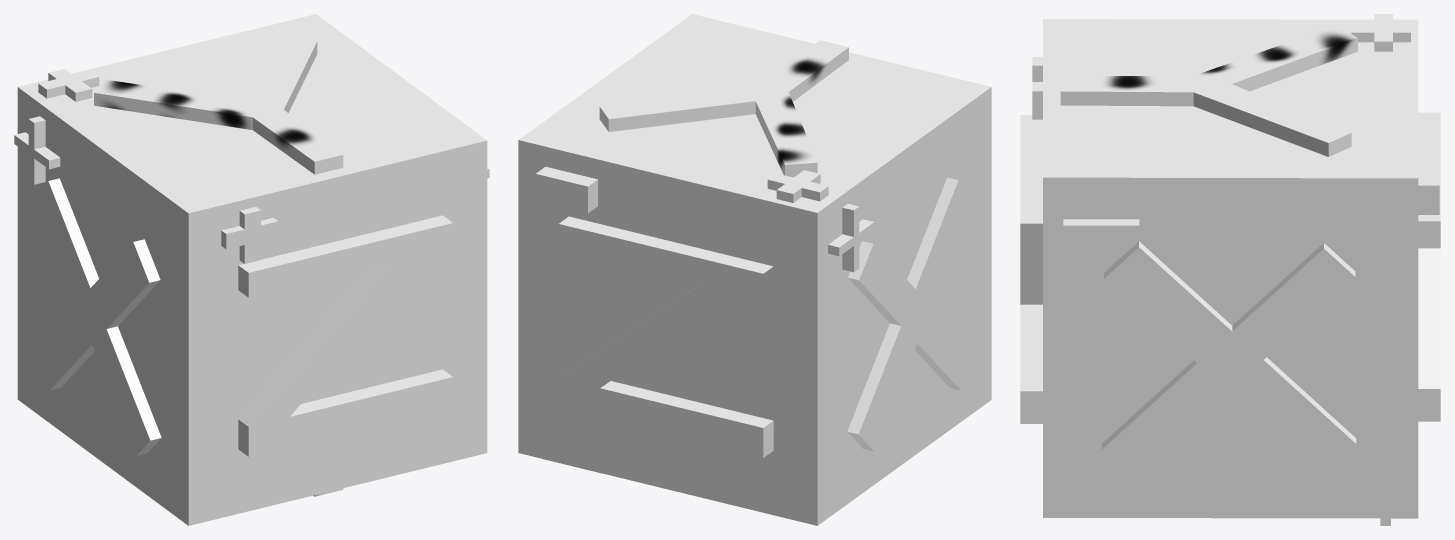
Rendered from LeftHandBox.fbx.
3 renders of one model, left to right at view 1: azimuth 30°, elevation 25°; view 2: azimuth 150°, elevation 25°; view 3: azimuth 270°, elevation 25°, orthographic. The views are drawn at different scales.
Visible parts, largest first — view 1: Cube; view 2: Cube; view 3: Cube.
Part boxes in pixels (box(x1,y1,x2,y2)): Cube: box(14, 14, 489, 525); Cube: box(518, 14, 991, 525); Cube: box(1020, 14, 1440, 525).
Size of the model in its own units: 215 by 216 by 224.
